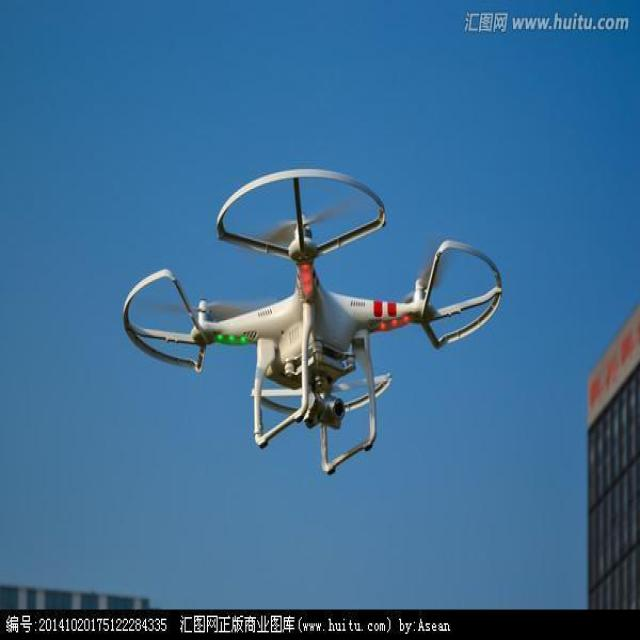drone: (120, 166, 506, 478)
